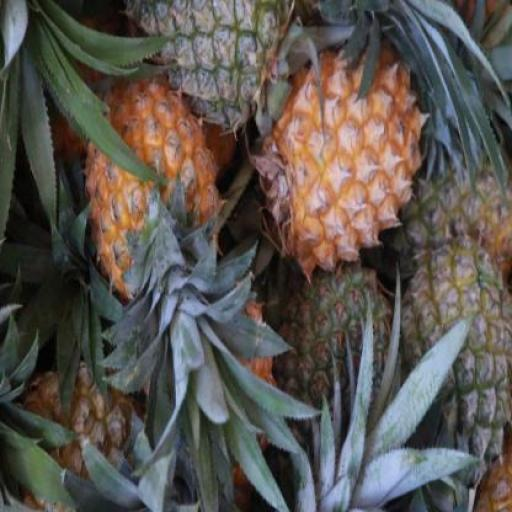------------------------------: (398, 242, 510, 485)
Pineapple - v8 v1: (259, 48, 424, 277), (84, 82, 222, 300)
